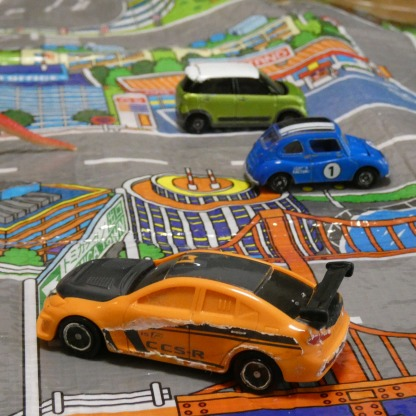car: (35, 232, 350, 395), (244, 117, 391, 195), (176, 55, 305, 134)
